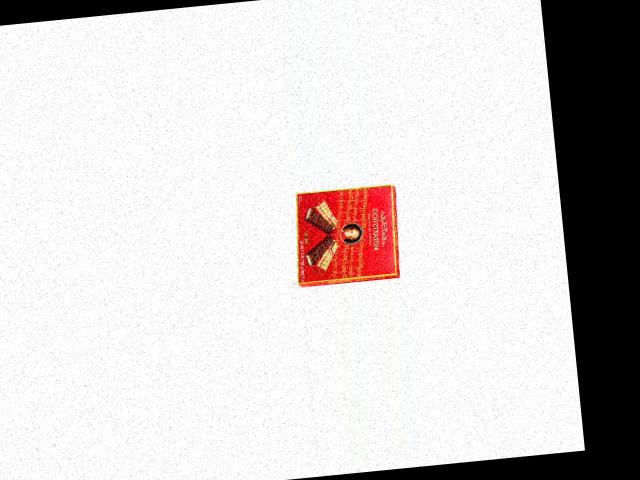chocolate: (286, 181, 402, 288)
